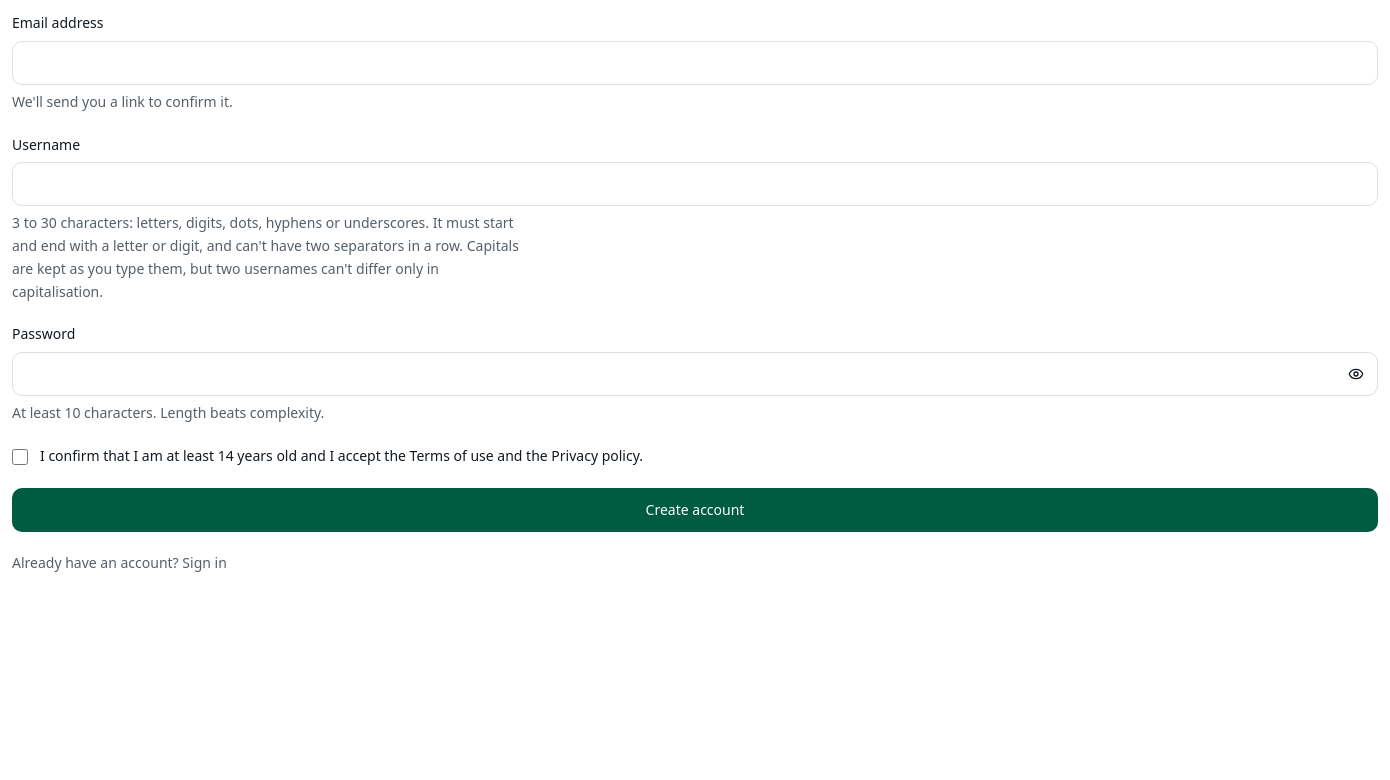
Scenario: RegisterForm › registerForm_emptyFields_reportEachOneAsRequired
The width and height of the screenshot is (1390, 780).
Click the button "Create account" at (695, 510), box [12, 488, 1378, 532]
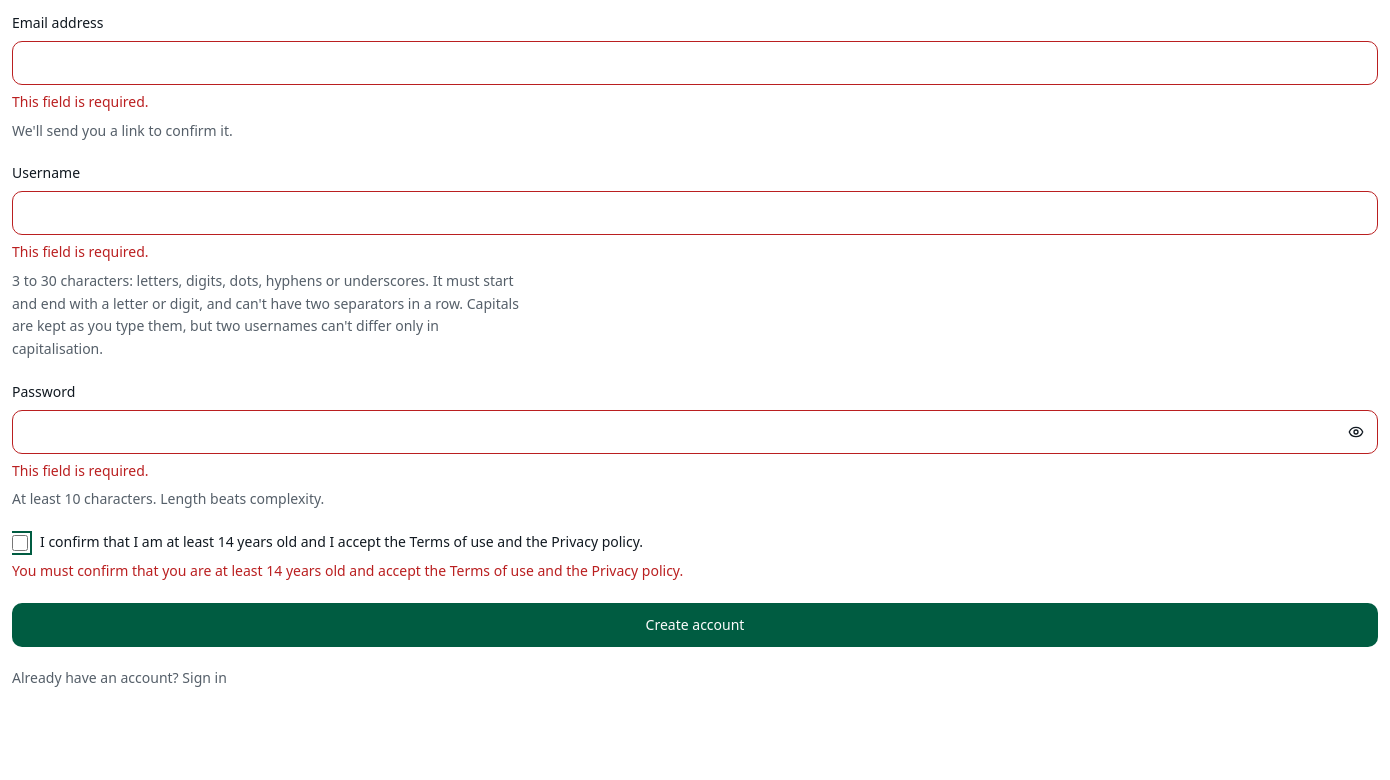
Check: the text "This field is required." is shown 3 times, box [12, 92, 149, 111]; [12, 242, 149, 261]; [12, 460, 149, 480]
